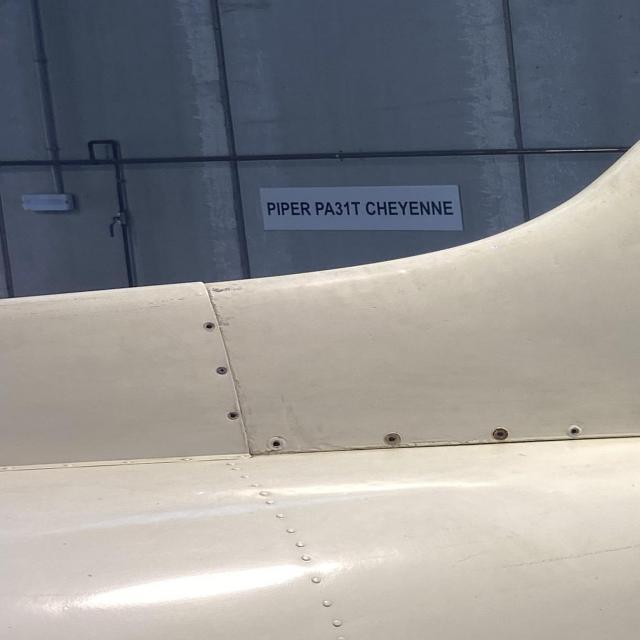Missing-head: (491, 427, 510, 441), (384, 432, 401, 445), (569, 425, 583, 437), (269, 439, 284, 450), (202, 322, 215, 331), (227, 412, 238, 420)
